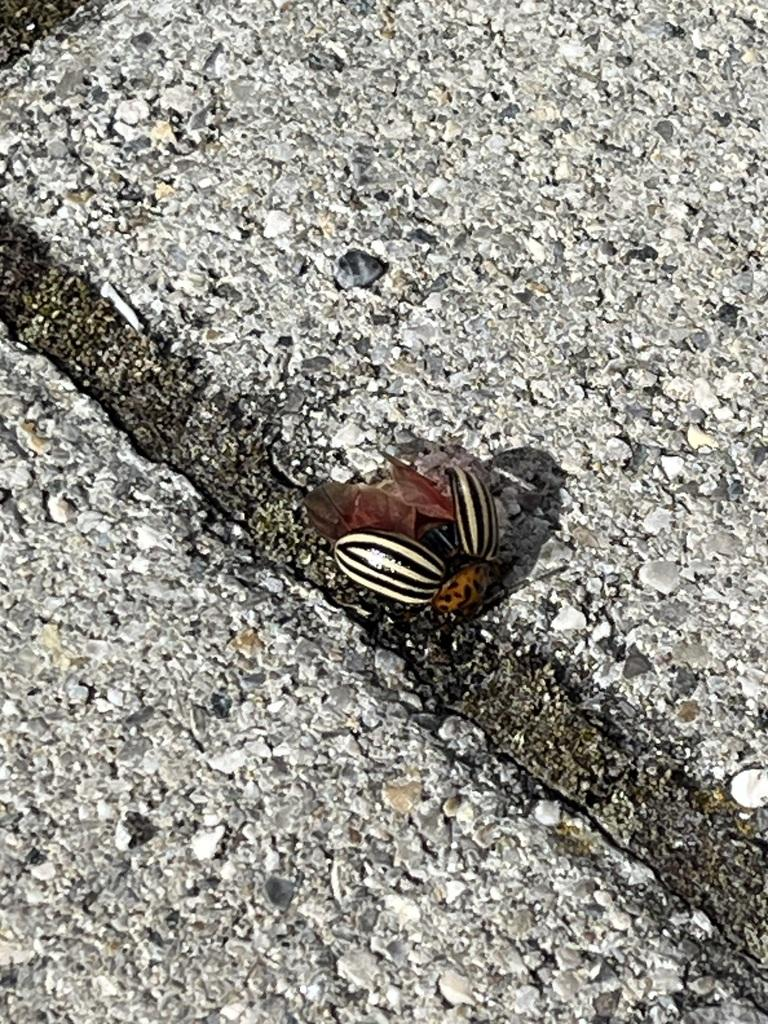potato_beetle: (272, 418, 548, 657)
